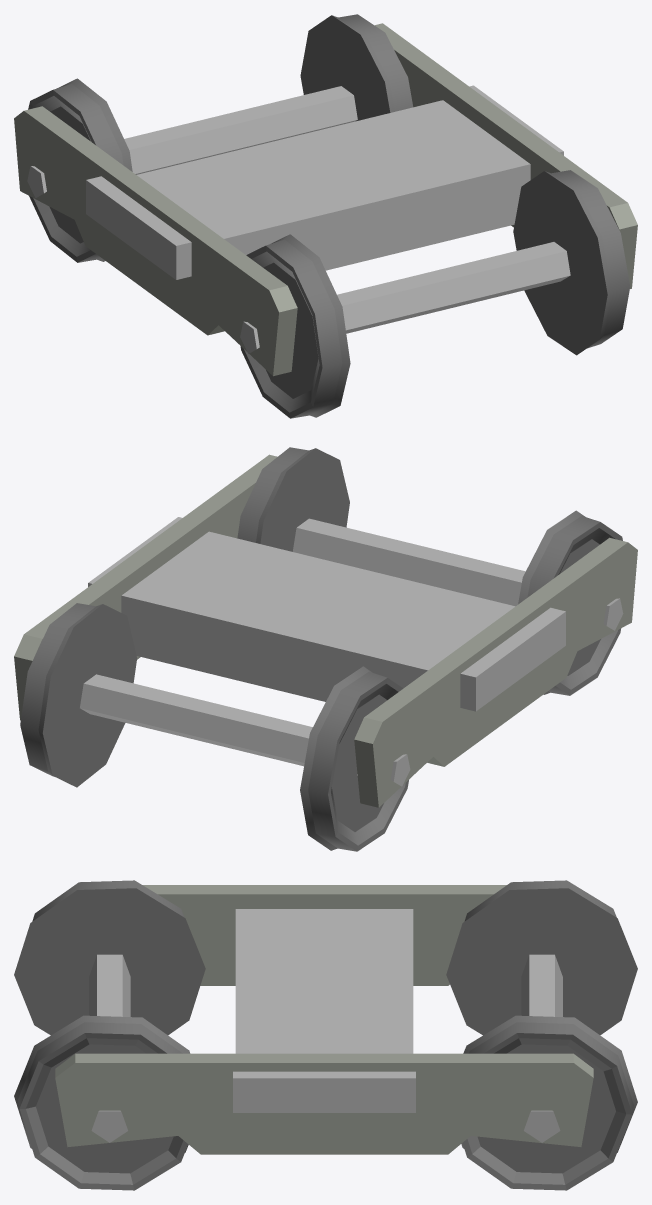
File: SM_Carriage_01.fbx
3 renders of one model, top to bottom at view 1: azimuth 30°, elevation 25°; view 2: azimuth 150°, elevation 25°; view 3: azimuth 270°, elevation 25°, orthographic.
Parts seen in each view (by area): view 1: SM_Carriage_01; view 2: SM_Carriage_01; view 3: SM_Carriage_01.
Boxes of the visible parts, box(x1,y1,x2,y2) form: SM_Carriage_01: box(14, 14, 637, 418); SM_Carriage_01: box(14, 447, 637, 851); SM_Carriage_01: box(14, 880, 637, 1190).
Bounding box in the file's own units: 216 × 87.79 × 297.
